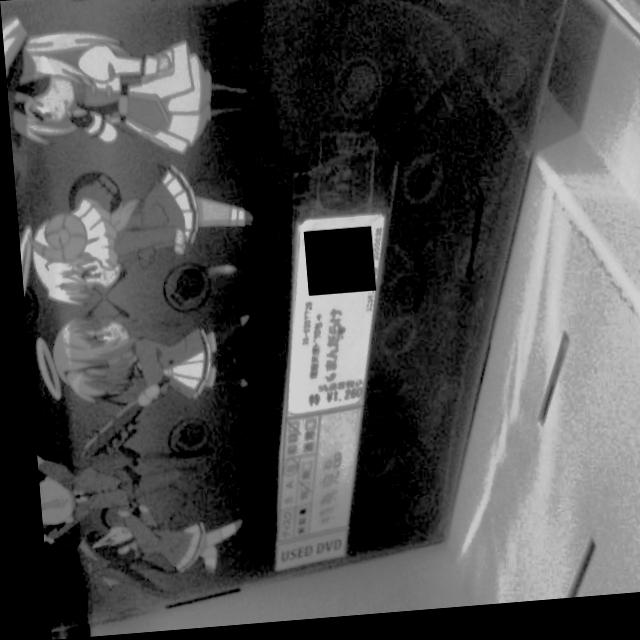qr_code: (299, 232, 370, 300)
